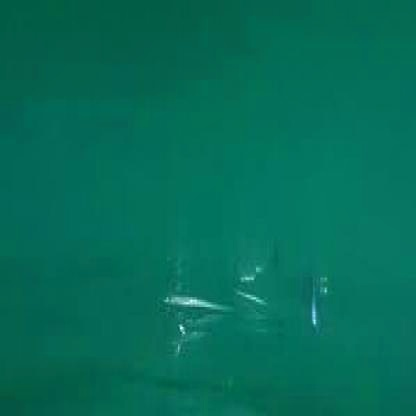pbottle: (157, 238, 341, 374)
